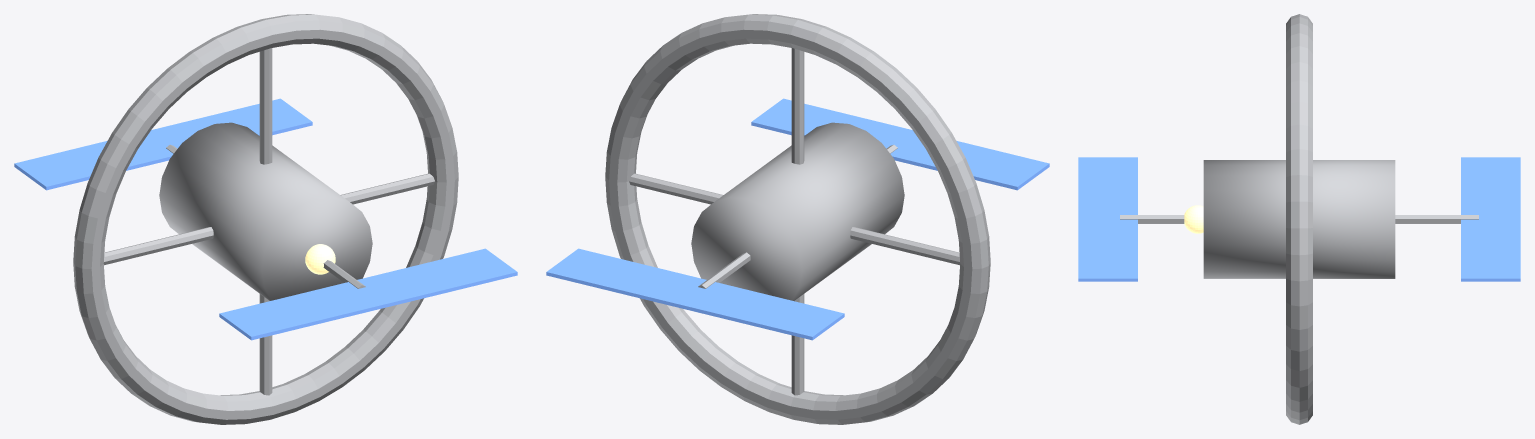
Rendered from station.glb.
The picture shows the model from 3 angles, left to right: view 1: azimuth 30°, elevation 25°; view 2: azimuth 150°, elevation 25°; view 3: azimuth 270°, elevation 25°; orthographic projection. The views are drawn at different scales.
Parts seen in each view (by area): view 1: Torus, Hub, Solar-1, Solar1, Spoke0, Spoke1, Sphere; view 2: Torus, Hub, Solar1, Solar-1, Spoke0, Spoke1, Arm1; view 3: Hub, Torus, Solar-1, Solar1, Arm1, Arm-1, Sphere.
Part boxes in pixels (bbox=[...]): Torus: bbox=[73, 14, 458, 424]; Hub: bbox=[159, 122, 372, 300]; Solar-1: bbox=[219, 248, 517, 340]; Solar1: bbox=[14, 98, 312, 190]; Spoke0: bbox=[103, 173, 434, 265]; Spoke1: bbox=[259, 48, 272, 395]; Sphere: bbox=[305, 244, 335, 274]; Torus: bbox=[605, 14, 990, 424]; Hub: bbox=[691, 122, 904, 300]; Solar1: bbox=[546, 248, 844, 340]; Solar-1: bbox=[751, 98, 1049, 190]; Spoke0: bbox=[629, 173, 960, 265]; Spoke1: bbox=[791, 48, 804, 395]; Arm1: bbox=[698, 252, 750, 288]; Hub: bbox=[1203, 160, 1395, 278]; Torus: bbox=[1286, 14, 1312, 424]; Solar-1: bbox=[1078, 157, 1137, 281]; Solar1: bbox=[1461, 157, 1520, 281]; Arm1: bbox=[1395, 215, 1478, 223]; Arm-1: bbox=[1120, 215, 1184, 223]; Sphere: bbox=[1184, 205, 1203, 233].
Size of the model in its own units: 3.44 by 3.44 by 3.7.
